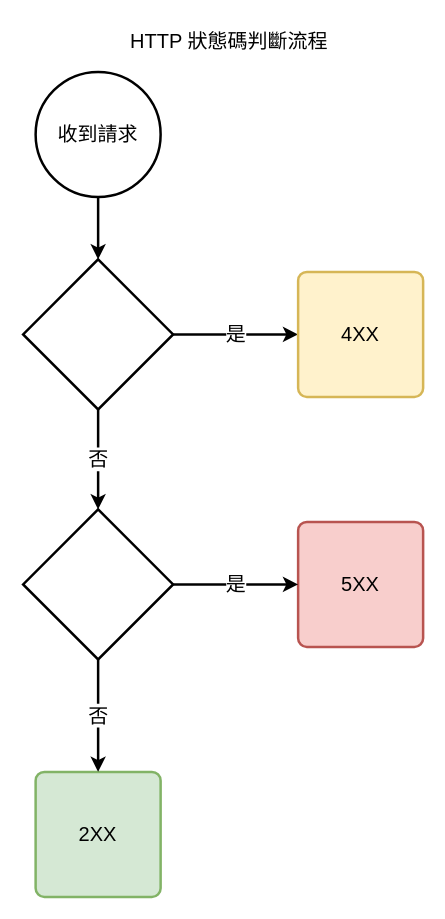
The diagram is 445 pixels wide and 919 high, and some of its shapes have lost their labels. Here are the shapes that lost their labels. From the top down, the centre of each, then its label:
At point (97, 334): "用戶端 請求內容 有問題?".
At point (97, 584): "伺服器端 程式處理 有異常".
